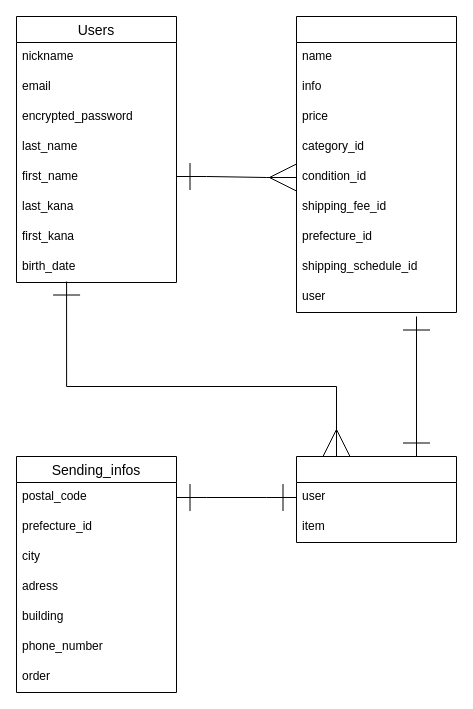
Image size: 473x709. Some labels were removed from this diagram. Here are the shapes that lost their labels. From the top down, the box of each, then its label:
(296, 16, 456, 312): Items
(296, 456, 456, 542): Orders
